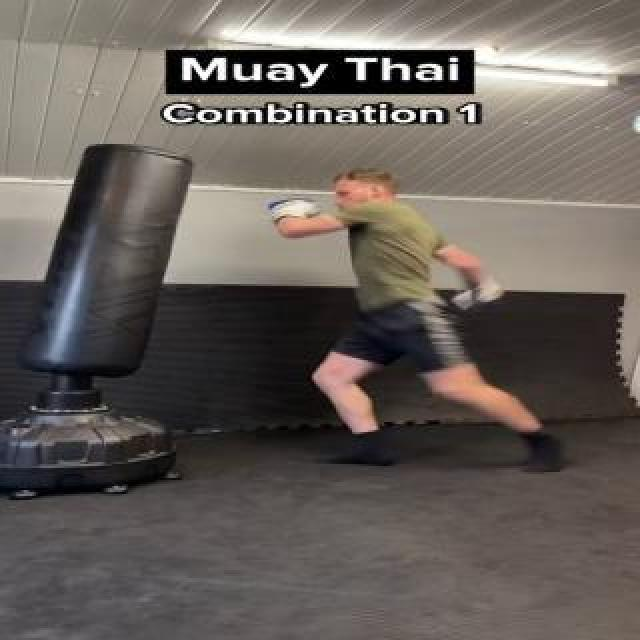fight: (246, 150, 598, 500)
